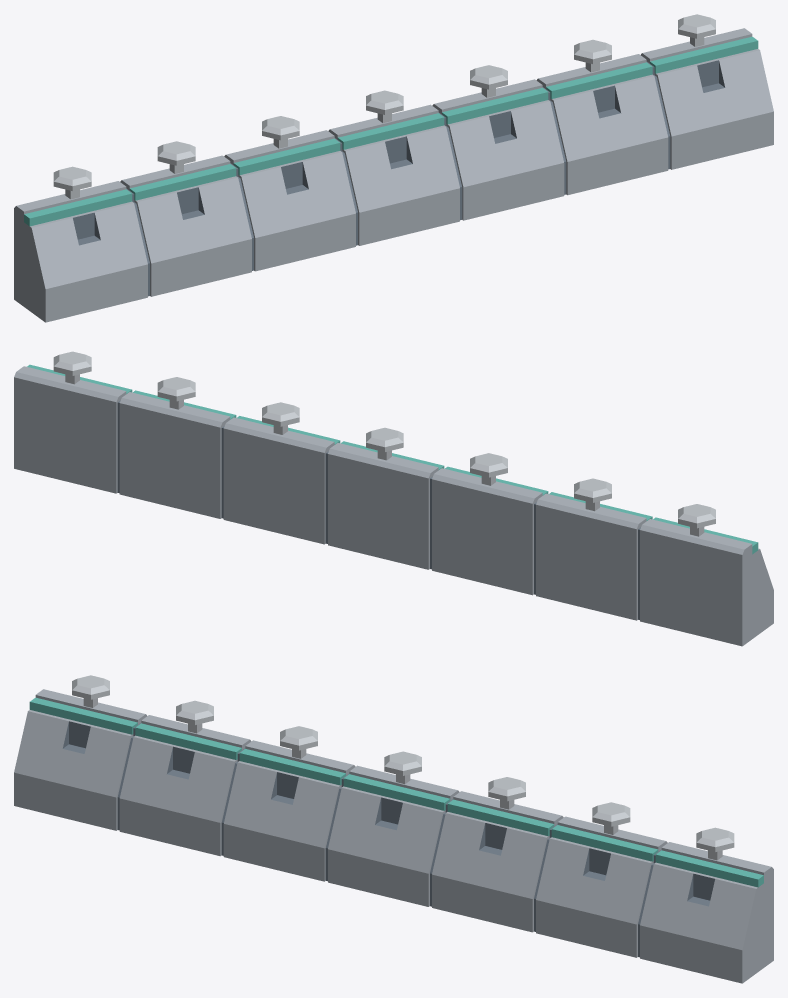
Rendered from kerb-run-9e0a3c.glb.
The picture shows the model from 3 angles, top to bottom: view 1: azimuth 30°, elevation 25°; view 2: azimuth 150°, elevation 25°; view 3: azimuth 330°, elevation 25°; orthographic projection.
Parts seen in each view (by area): view 1: kerb-units; view 2: kerb-units; view 3: kerb-units.
Boxes of the visible parts, <box> form: kerb-units: <box>14,14,773,322</box>; kerb-units: <box>14,351,773,646</box>; kerb-units: <box>14,675,773,983</box>.
Size of the model in its own units: 4 by 0.622 by 0.3271.
